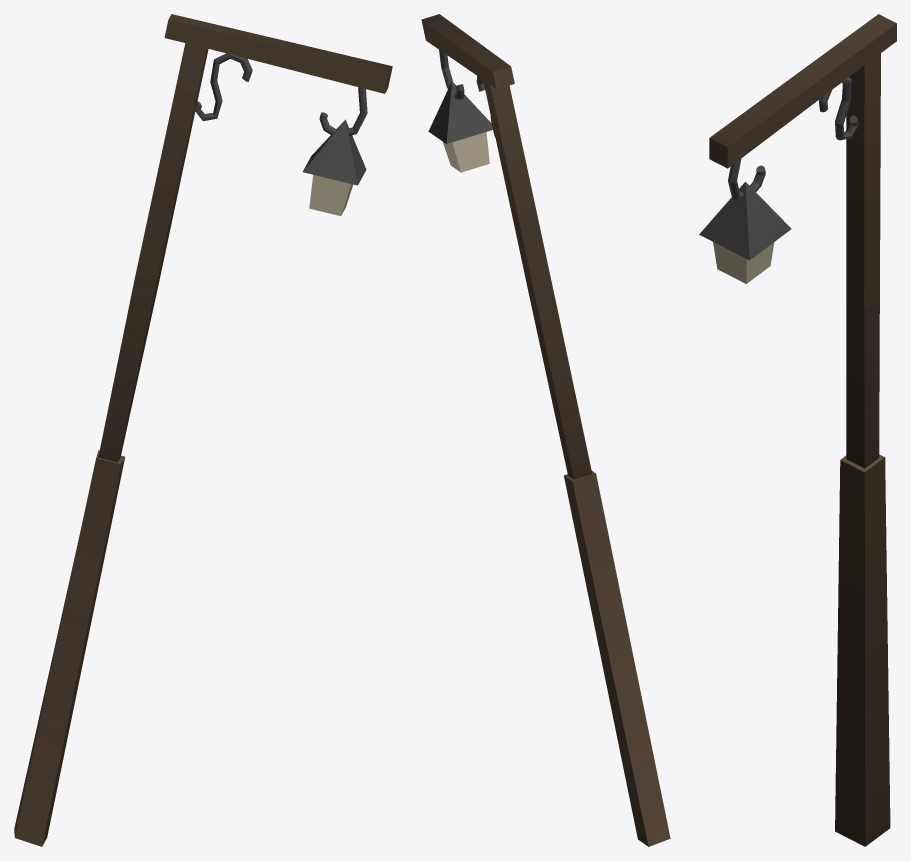
Rendered from ea_exterior_lamp_wooden_01a_pre__9__lev1.glb.
3 renders of one model, left to right at view 1: azimuth 30°, elevation 25°; view 2: azimuth 150°, elevation 25°; view 3: azimuth 270°, elevation 25°, orthographic. The views are drawn at different scales.
Visible parts, largest first — view 1: ea_exterior_lamp_wooden_01a_pre__9__lev1; view 2: ea_exterior_lamp_wooden_01a_pre__9__lev1; view 3: ea_exterior_lamp_wooden_01a_pre__9__lev1.
Part boxes in pixels (bbox=[...]): ea_exterior_lamp_wooden_01a_pre__9__lev1: bbox=[14, 14, 392, 846]; ea_exterior_lamp_wooden_01a_pre__9__lev1: bbox=[421, 14, 670, 846]; ea_exterior_lamp_wooden_01a_pre__9__lev1: bbox=[699, 14, 896, 846].
Bounding box in the file's own units: 1.75 × 4.11 × 0.8145.
1 material, 1 textured.
